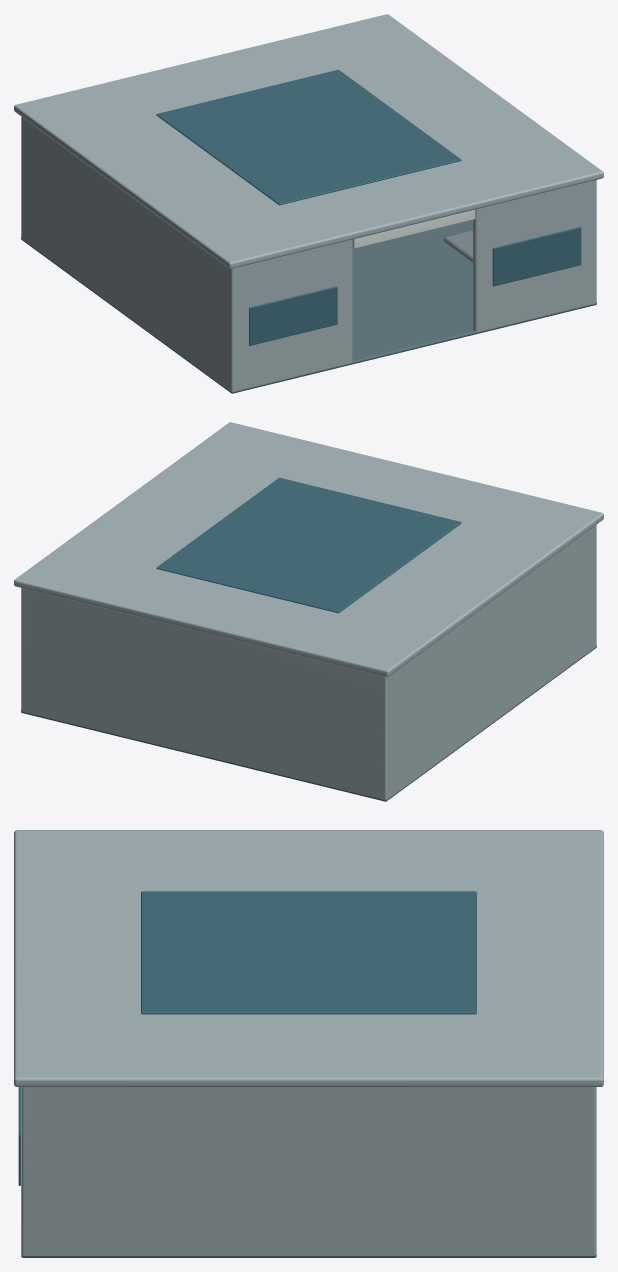
File: transit-module.glb
3 views of the same model, one above another, from view 1: azimuth 30°, elevation 25°; view 2: azimuth 150°, elevation 25°; view 3: azimuth 270°, elevation 25° (orthographic). The views are drawn at different scales.
Parts seen in each view (by area): view 1: Roof perimeter.001, Side wall.002, Skylight.001, Raised foundation.001, Entry wall.003, Entry wall.002, Front inset.003, Front inset.002, Entry lintel.001, Station bench.002; view 2: Roof perimeter.001, Rear structural wall.001, Side wall.002, Skylight.001, Raised foundation.001; view 3: Roof perimeter.001, Side wall.003, Skylight.001, Raised foundation.001, Rear structural wall.001.
Boxes of the visible parts, bbox=[...] form: Roof perimeter.001: bbox=[14, 14, 603, 268]; Side wall.002: bbox=[21, 117, 235, 391]; Skylight.001: bbox=[156, 69, 461, 205]; Raised foundation.001: bbox=[21, 220, 596, 393]; Entry wall.003: bbox=[473, 181, 593, 331]; Entry wall.002: bbox=[234, 239, 352, 390]; Front inset.003: bbox=[492, 227, 581, 286]; Front inset.002: bbox=[249, 286, 337, 345]; Entry lintel.001: bbox=[352, 209, 475, 248]; Station bench.002: bbox=[444, 230, 472, 262]; Roof perimeter.001: bbox=[14, 422, 603, 676]; Rear structural wall.001: bbox=[22, 588, 388, 799]; Side wall.002: bbox=[382, 525, 596, 799]; Skylight.001: bbox=[156, 477, 461, 613]; Raised foundation.001: bbox=[21, 645, 596, 801]; Roof perimeter.001: bbox=[14, 830, 603, 1086]; Side wall.003: bbox=[21, 1087, 596, 1255]; Skylight.001: bbox=[141, 891, 476, 1014]; Raised foundation.001: bbox=[21, 1254, 596, 1257]; Rear structural wall.001: bbox=[590, 1087, 596, 1255].
Size of the model in its own units: 12.3 by 4.26 by 12.3.
